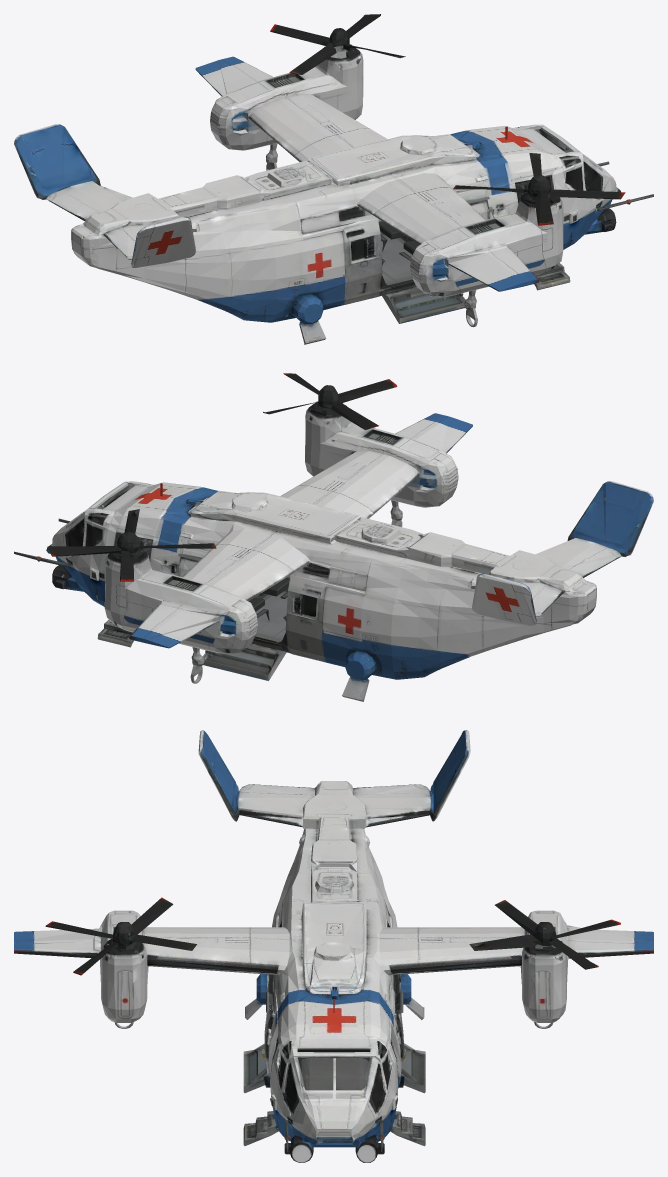
The model's file is lifter_LOD0.glb.
The picture shows the model from 3 angles, top to bottom: view 1: azimuth 30°, elevation 25°; view 2: azimuth 150°, elevation 25°; view 3: azimuth 270°, elevation 25°; orthographic projection. The views are drawn at different scales.
Parts seen in each view (by area): view 1: lifter_LOD0; view 2: lifter_LOD0; view 3: lifter_LOD0.
Boxes of the visible parts, x1,y1,x2,y2 form: lifter_LOD0: [14, 14, 653, 344]; lifter_LOD0: [14, 373, 653, 701]; lifter_LOD0: [14, 730, 653, 1162].
Size of the model in its own units: 0.9999 by 0.3092 by 0.949.
1 material, 1 textured.
